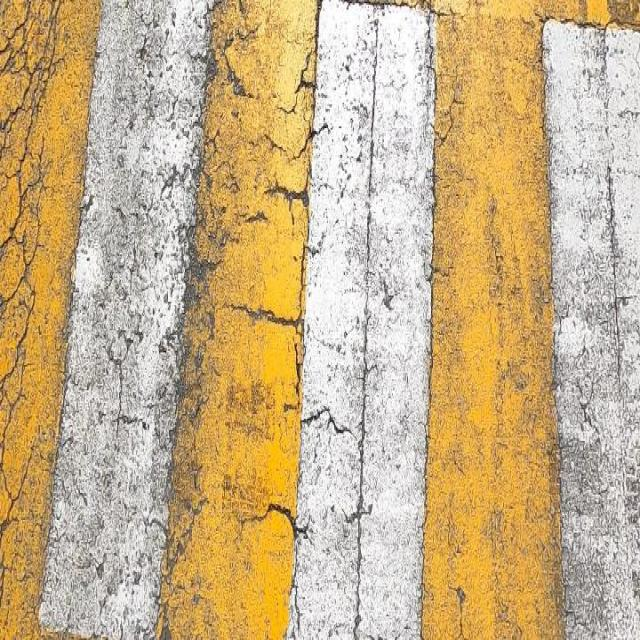cracks: (216, 1, 488, 640), (1, 4, 75, 640)
